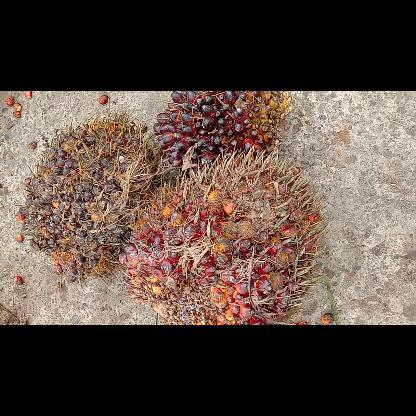Kurang masak: (16, 116, 152, 286), (154, 91, 292, 164)
TBS masak: (118, 142, 328, 322)
